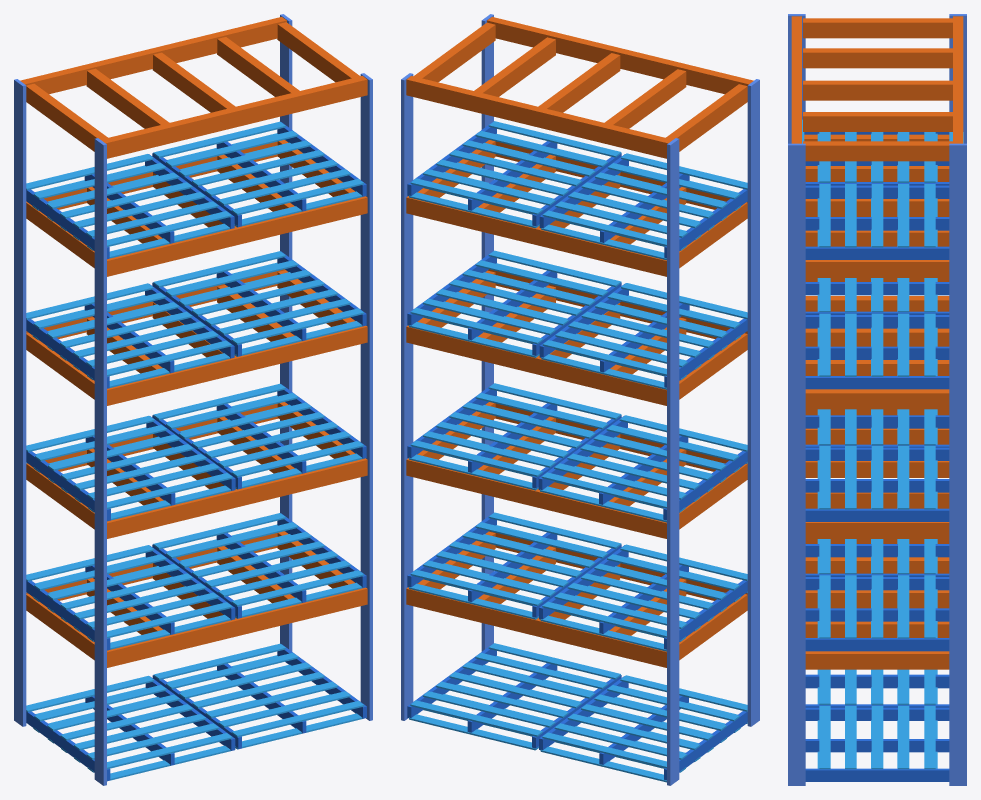
The model's file is mets4_1rack.glb.
3 renders of one model, left to right at view 1: azimuth 30°, elevation 25°; view 2: azimuth 150°, elevation 25°; view 3: azimuth 270°, elevation 25°, orthographic.
Visible parts, largest first — view 1: bars (×10), post (×4), wood10_1 (×10), wood10 (×7), barsH5 (×5), wood5 (×7), wood9 (×7), wood8 (×7), wood6 (×7), wood7 (×7), wood2 (×7), wood1 (×7) (+16 smaller); view 2: bars (×10), post (×4), wood2 (×7), barsH5 (×5), wood8 (×7), wood9 (×7), wood5 (×7), wood6 (×7), wood7 (×7), wood10 (×7), wood12 (×7), wood1 (×7) (+17 smaller); view 3: post (×4), barsH1 (×5), barsH3 (×5), wood1 (×7), barsH4 (×5), barsH2 (×5), wood3 (×7), barsH5 (×5), wood4 (×4), wood7 (×7), wood5 (×7), wood8 (×7) (+11 smaller).
Part boxes in pixels (box(x1,y1,x2,y2)): bars (×10): box(20, 17, 367, 667); post (×4): box(14, 14, 372, 785); wood10_1 (×10): box(107, 191, 364, 768); wood10 (×7): box(107, 179, 363, 606); barsH5 (×5): box(26, 83, 107, 660); wood5 (×7): box(33, 130, 298, 558); wood9 (×7): box(86, 169, 350, 596); wood8 (×7): box(73, 160, 337, 587); wood6 (×7): box(47, 140, 311, 568); wood7 (×7): box(60, 150, 324, 577); wood2 (×7): box(26, 121, 285, 549); wood1 (×7): box(145, 122, 366, 587); bars (×10): box(406, 17, 753, 667); post (×4): box(401, 14, 759, 785); wood2 (×7): box(410, 178, 666, 606); barsH5 (×5): box(666, 84, 747, 660); wood8 (×7): box(462, 140, 727, 567); wood9 (×7): box(475, 131, 740, 558); wood5 (×7): box(423, 169, 687, 596); wood6 (×7): box(436, 159, 700, 587); wood7 (×7): box(449, 150, 713, 577); wood10 (×7): box(488, 121, 747, 548); wood12 (×7): box(409, 192, 666, 619); wood1 (×7): box(407, 122, 628, 587); post (×4): box(788, 14, 966, 785); barsH1 (×5): box(803, 141, 952, 669); barsH3 (×5): box(803, 80, 952, 608); wood1 (×7): box(805, 182, 949, 651); barsH4 (×5): box(803, 48, 952, 573); barsH2 (×5): box(803, 112, 952, 637); wood3 (×7): box(805, 161, 949, 621); barsH5 (×5): box(803, 18, 952, 543); wood4 (×4): box(805, 185, 949, 590); wood7 (×7): box(871, 132, 883, 638); wood5 (×7): box(924, 132, 935, 638); wood8 (×7): box(845, 132, 856, 638).
Size of the model in its own units: 2.96 by 6.73 by 1.7.
